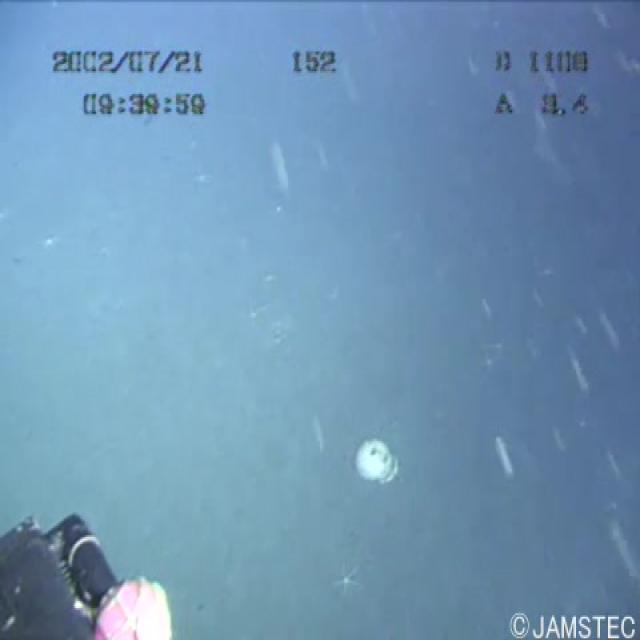plastic: (341, 416, 411, 492)
